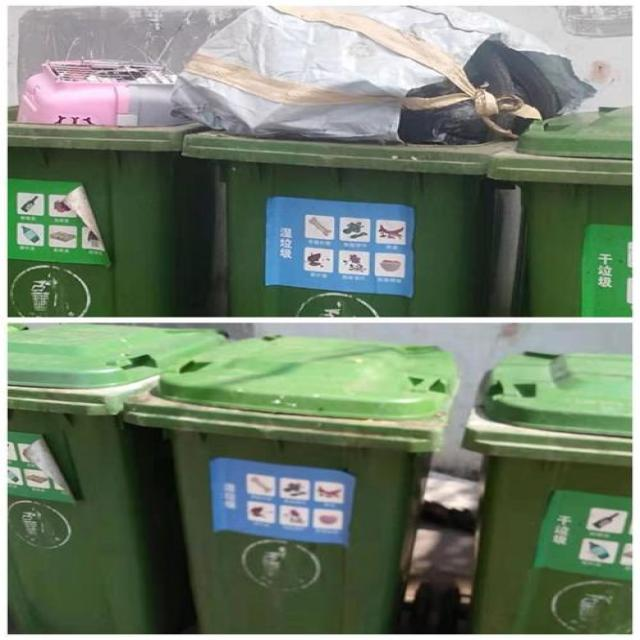garbage_bin: (121, 335, 452, 632), (9, 324, 223, 632), (458, 352, 631, 632)
overflow: (181, 5, 590, 315), (8, 58, 228, 314)
